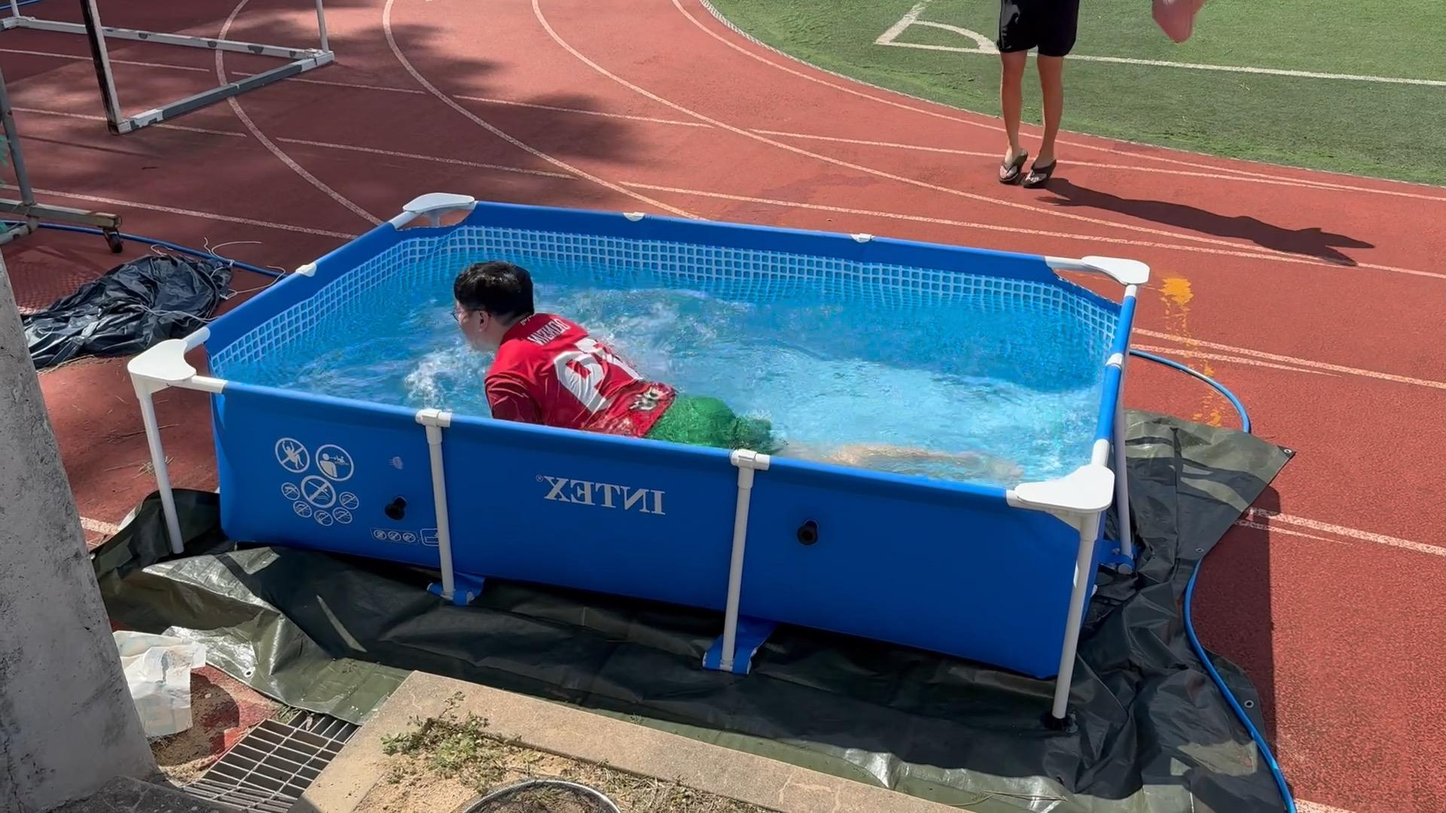Person-out-of-water: (964, 0, 1116, 195)
Swimming: (414, 267, 980, 489)
